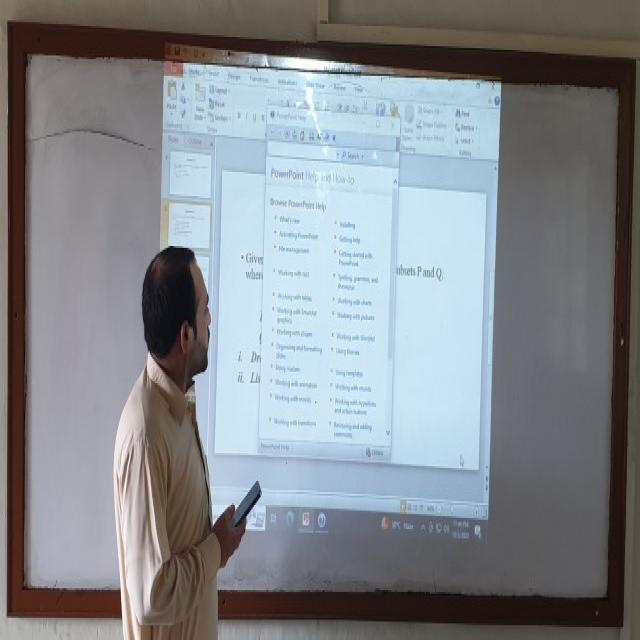Instructor: (111, 222, 224, 640)
Slide: (154, 49, 504, 541)
White-board: (14, 35, 628, 606)
